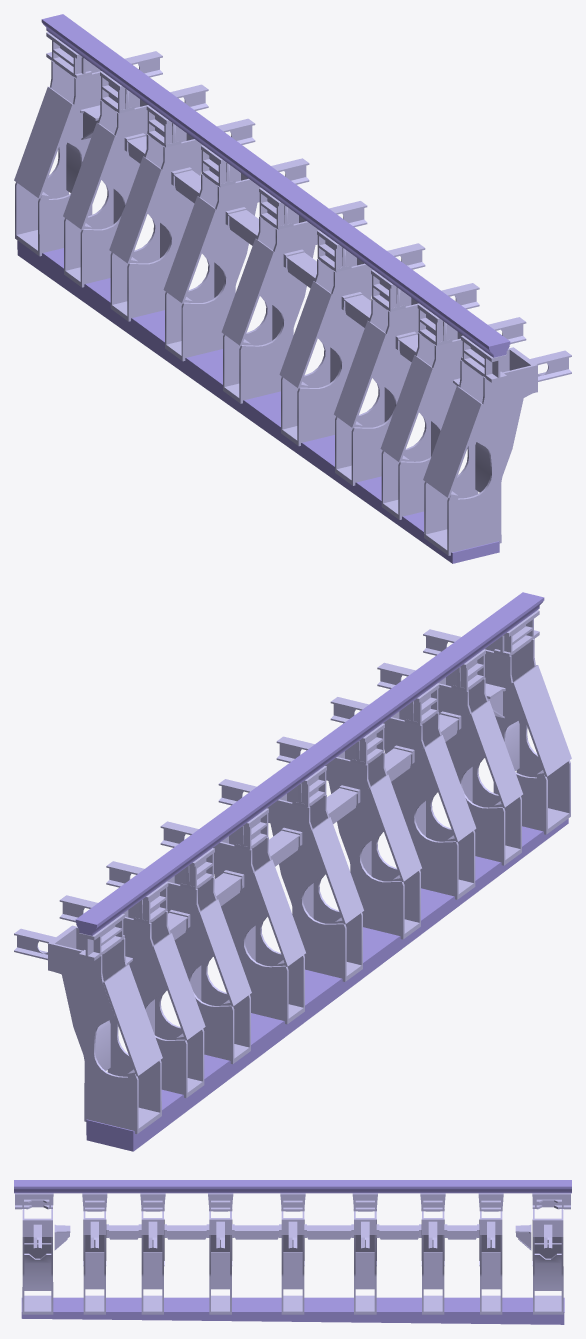
The model's file is support-feet-cut-2.glb.
3 views of the same model, one above another, from view 1: azimuth 30°, elevation 25°; view 2: azimuth 150°, elevation 25°; view 3: azimuth 270°, elevation 25° (orthographic). The views are drawn at different scales.
Parts seen in each view (by area): view 1: feet; view 2: feet; view 3: feet.
Boxes of the visible parts, x1,y1,x2,y2 form: feet: (14, 14, 571, 563); feet: (14, 592, 571, 1151); feet: (14, 1180, 571, 1324).
Size of the model in its own units: 4.54 by 7.3 by 26.42.
